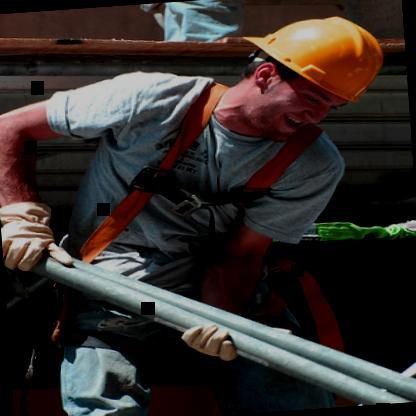helmet: (195, 0, 404, 147)
